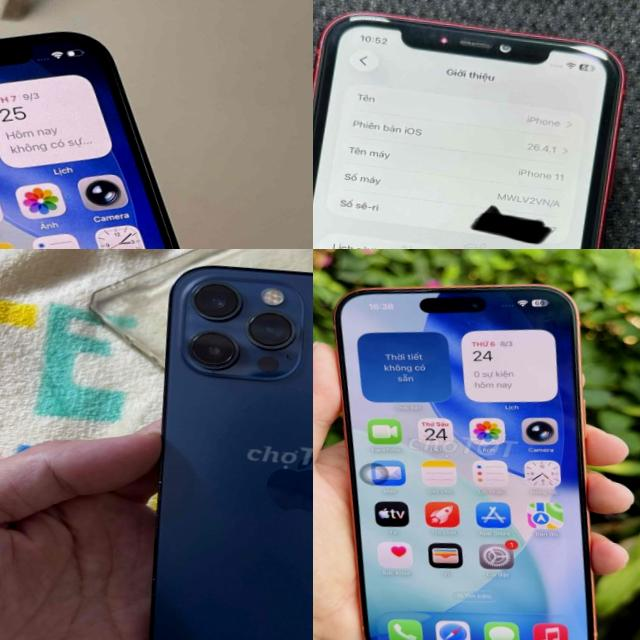gen_11: (313, 14, 624, 249)
gen_12_13: (120, 254, 313, 640), (0, 5, 296, 249)
gen_17: (313, 265, 640, 640)
